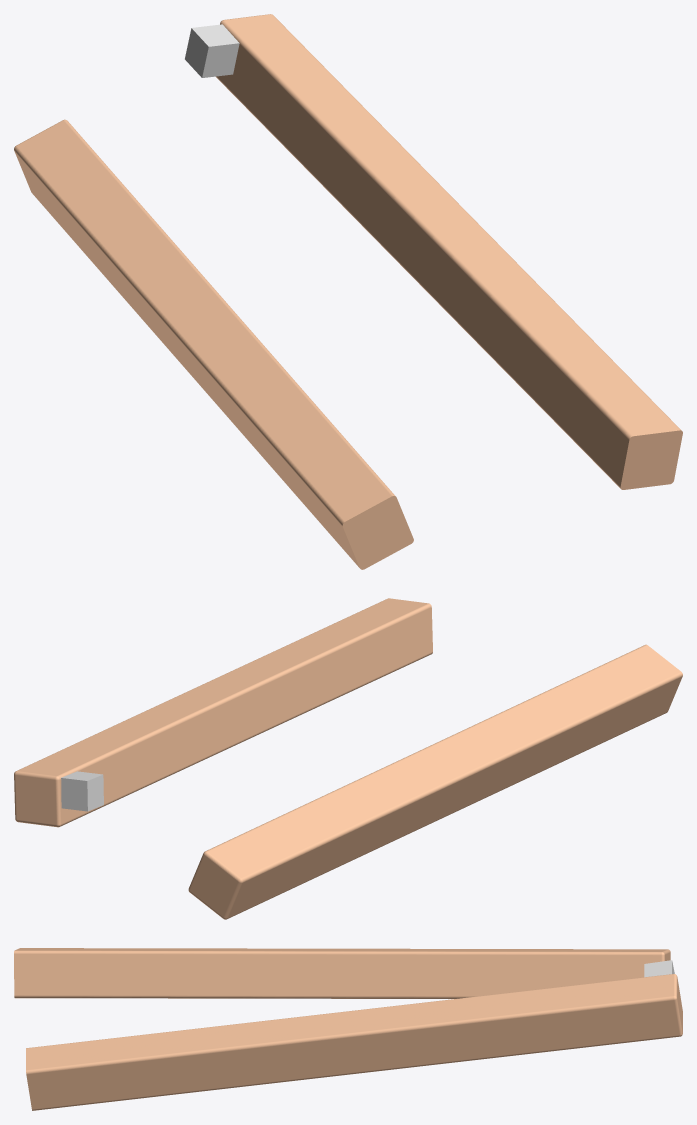
File: Template - Copy2.fbx
The picture shows the model from 3 angles, top to bottom: view 1: azimuth 30°, elevation 25°; view 2: azimuth 150°, elevation 25°; view 3: azimuth 270°, elevation 25°; orthographic projection. The views are drawn at different scales.
Parts seen in each view (by area): view 1: Right Arm, Left Arm, Cube; view 2: Left Arm, Right Arm, Cube; view 3: Right Arm, Left Arm, Cube.
Boxes of the visible parts, x1,y1,x2,y2 form: Right Arm: (216, 14, 682, 489); Left Arm: (14, 119, 413, 569); Cube: (185, 24, 239, 77); Left Arm: (188, 644, 682, 919); Right Arm: (14, 598, 432, 827); Cube: (61, 771, 103, 811); Right Arm: (26, 974, 682, 1110); Left Arm: (14, 948, 670, 998); Cube: (644, 960, 674, 977).
Size of the model in its own units: 140 by 63.54 by 297.
